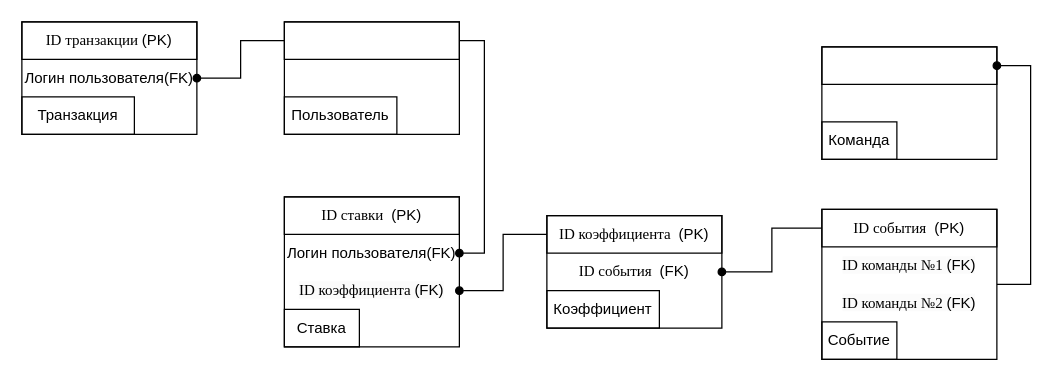
The diagram is 1063 pixels wide and 381 high, and some of its shapes have lost their labels. Here are the shapes that lost their labels. From the top down, the centre of each, then its label:
At point 371,40: "Логин (PK)".
At point 909,65: "ID команды (PK)".
